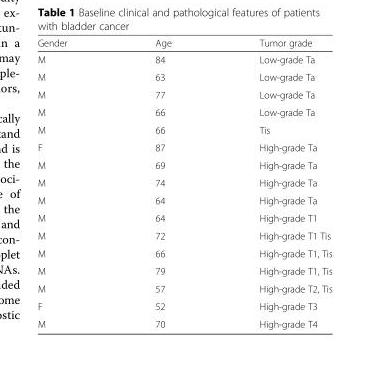table: (36, 36, 331, 329)
table column: (214, 36, 331, 329), (110, 36, 214, 329), (36, 36, 110, 329)
table column header: (36, 36, 331, 50)
table row: (36, 67, 331, 85), (36, 85, 331, 103), (36, 120, 331, 138), (36, 138, 331, 156), (36, 173, 331, 191), (36, 208, 331, 226), (36, 226, 331, 244), (36, 261, 331, 279), (36, 279, 331, 297), (36, 50, 331, 67), (36, 103, 331, 120), (36, 156, 331, 173), (36, 191, 331, 208), (36, 244, 331, 261), (36, 297, 331, 314), (36, 314, 331, 329), (36, 36, 331, 50)
